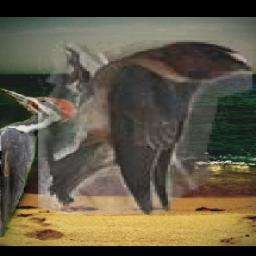Swallow: (38, 41, 252, 216)
Woodpecker: (0, 89, 80, 238)
